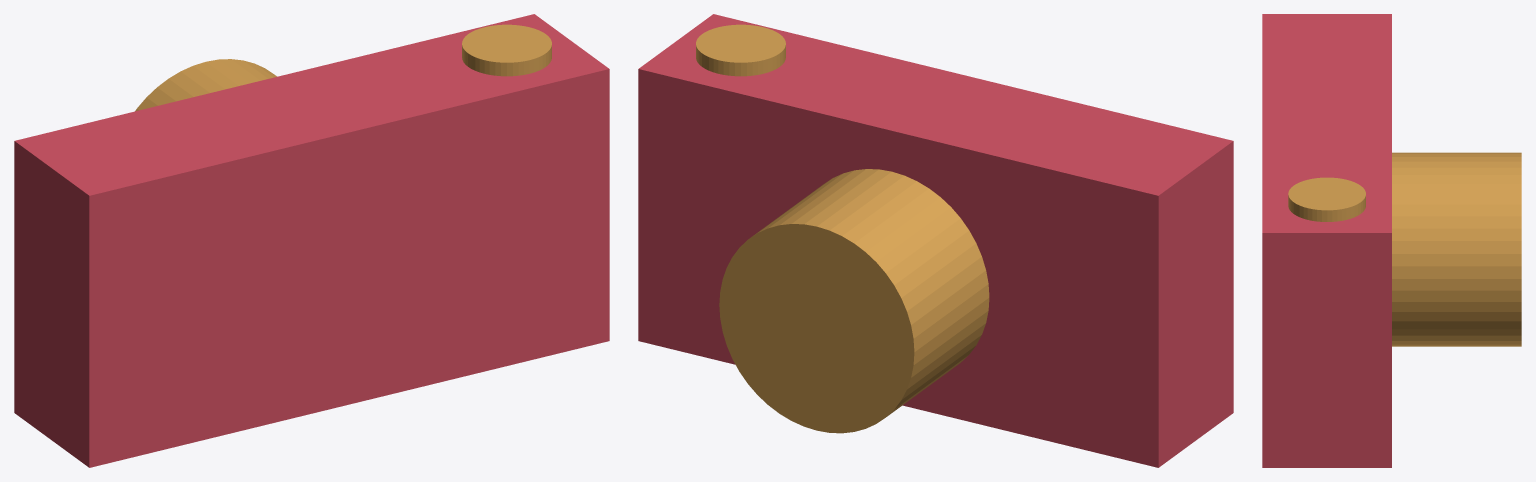
Rendered from foto.glb.
3 views of the same model, side by side, from view 1: azimuth 30°, elevation 25°; view 2: azimuth 150°, elevation 25°; view 3: azimuth 270°, elevation 25° (orthographic). The views are drawn at different scales.
Parts seen in each view (by area): view 1: Mesh_Mesh_head_geo.001_lambert2SG.001; view 2: Mesh_Mesh_head_geo.001_lambert2SG.001; view 3: Mesh_Mesh_head_geo.001_lambert2SG.001.
Boxes of the visible parts, x1=… form: Mesh_Mesh_head_geo.001_lambert2SG.001: x1=14, y1=14, x2=609, y2=467; Mesh_Mesh_head_geo.001_lambert2SG.001: x1=638, y1=14, x2=1233, y2=467; Mesh_Mesh_head_geo.001_lambert2SG.001: x1=1262, y1=14, x2=1521, y2=467.
Size of the model in its own units: 40 by 21 by 20.
